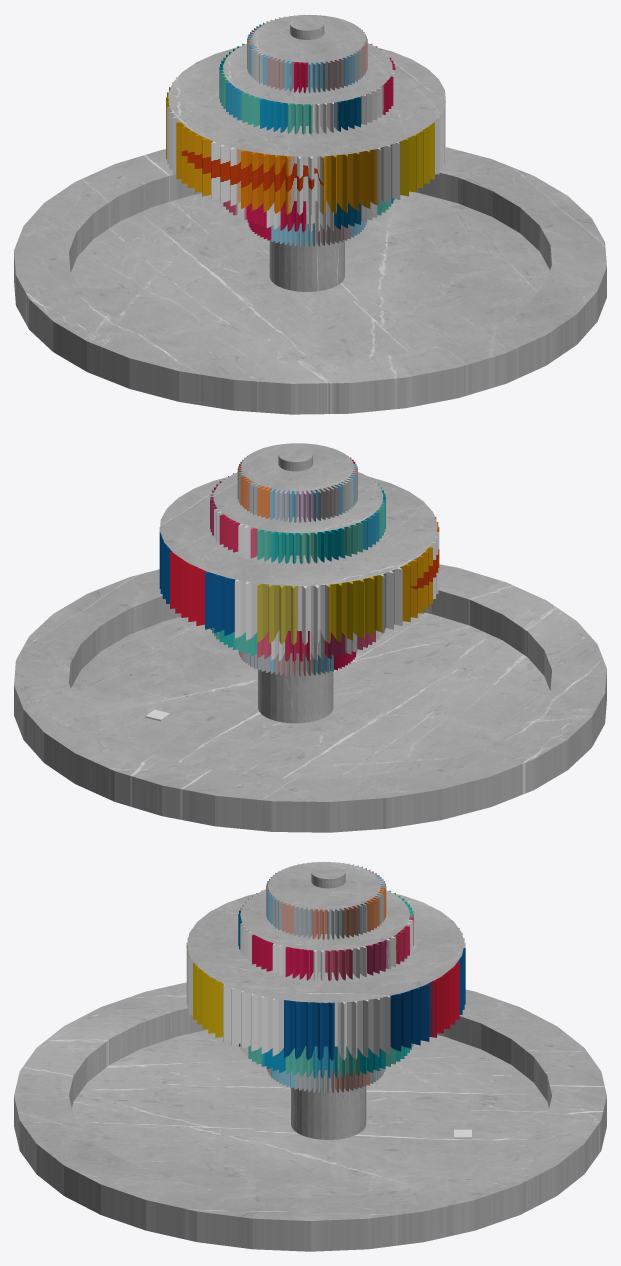
The model's file is fountain.glb.
3 views of the same model, one above another, from view 1: azimuth 30°, elevation 25°; view 2: azimuth 150°, elevation 25°; view 3: azimuth 270°, elevation 25° (orthographic).
Visible parts, largest first — view 1: Circle, Gear.001, Cylinder.004, Gear.002, Gear.003, Cylinder.002, Cylinder.003, Cylinder, Gear.004, Gear.005, Cylinder.001; view 2: Circle, Gear.001, Cylinder.004, Gear.002, Gear.003, Cylinder.003, Cylinder, Cylinder.002, Gear.004, Gear.005, Cylinder.001; view 3: Circle, Gear.001, Cylinder.004, Gear.002, Gear.003, Cylinder.003, Cylinder, Cylinder.002, Gear.004, Gear.005, Cylinder.001.
Part boxes in pixels (left/top/right/bottom): Circle: left=14, top=147, right=606, bottom=414; Gear.001: left=166, top=77, right=445, bottom=215; Cylinder.004: left=168, top=47, right=445, bottom=156; Gear.002: left=219, top=43, right=395, bottom=134; Gear.003: left=247, top=14, right=367, bottom=93; Cylinder.002: left=223, top=43, right=392, bottom=104; Cylinder.003: left=252, top=15, right=365, bottom=62; Cylinder: left=269, top=240, right=344, bottom=291; Gear.004: left=220, top=198, right=394, bottom=232; Gear.005: left=248, top=221, right=366, bottom=246; Cylinder.001: left=290, top=16, right=324, bottom=39; Circle: left=14, top=564, right=606, bottom=832; Gear.001: left=159, top=517, right=439, bottom=644; Cylinder.004: left=160, top=476, right=437, bottom=585; Gear.002: left=210, top=473, right=385, bottom=564; Gear.003: left=237, top=454, right=357, bottom=522; Cylinder.003: left=241, top=443, right=354, bottom=490; Cylinder: left=258, top=669, right=333, bottom=723; Cylinder.002: left=213, top=472, right=383, bottom=533; Gear.004: left=210, top=627, right=385, bottom=661; Gear.005: left=238, top=651, right=357, bottom=676; Cylinder.001: left=278, top=447, right=312, bottom=471; Circle: left=14, top=982, right=606, bottom=1251; Gear.001: left=186, top=928, right=465, bottom=1060; Cylinder.004: left=187, top=893, right=464, bottom=1002; Gear.002: left=238, top=890, right=413, bottom=981; Gear.003: left=266, top=861, right=386, bottom=939; Cylinder.003: left=268, top=862, right=380, bottom=909; Cylinder: left=291, top=1086, right=366, bottom=1139; Cylinder.002: left=240, top=889, right=409, bottom=950; Gear.004: left=239, top=1043, right=413, bottom=1078; Gear.005: left=267, top=1068, right=385, bottom=1093; Cylinder.001: left=311, top=864, right=345, bottom=888.
Bounding box in the file's own units: 11.05 × 5.29 × 11.05.
Materials: 4 (4 with a texture image).
